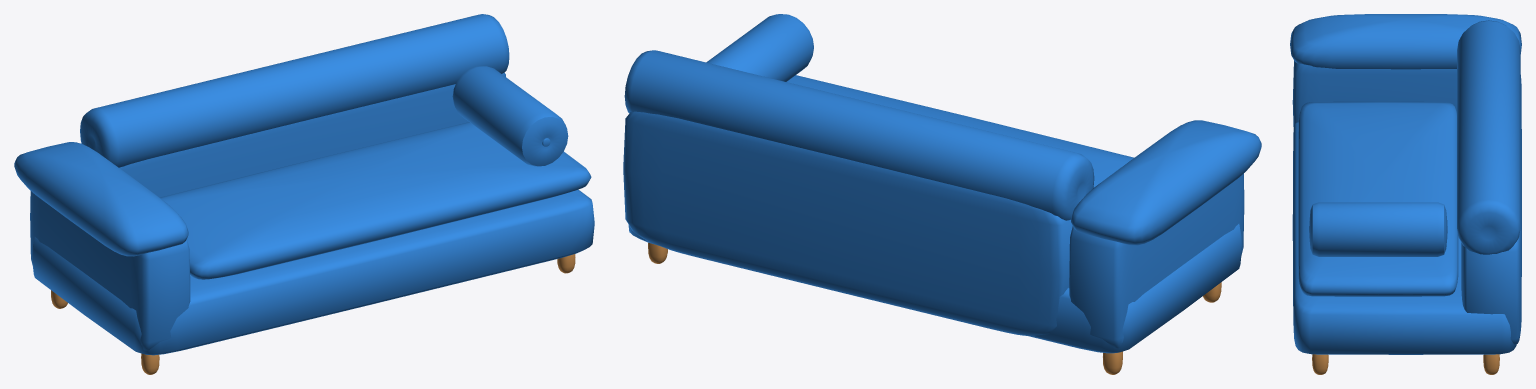
Rendered from diva_braco_azul.glb.
3 renders of one model, left to right at view 1: azimuth 30°, elevation 25°; view 2: azimuth 150°, elevation 25°; view 3: azimuth 270°, elevation 25°, orthographic. The views are drawn at different scales.
Visible parts, largest first — view 1: diva_braco_azul; view 2: diva_braco_azul; view 3: diva_braco_azul.
Part boxes in pixels (x1,y1,x2,y2): diva_braco_azul: (14,14,594,374); diva_braco_azul: (623,14,1261,374); diva_braco_azul: (1290,14,1521,374).
Size of the model in its own units: 1.9 by 0.715 by 0.84.
1 material, 1 textured.
